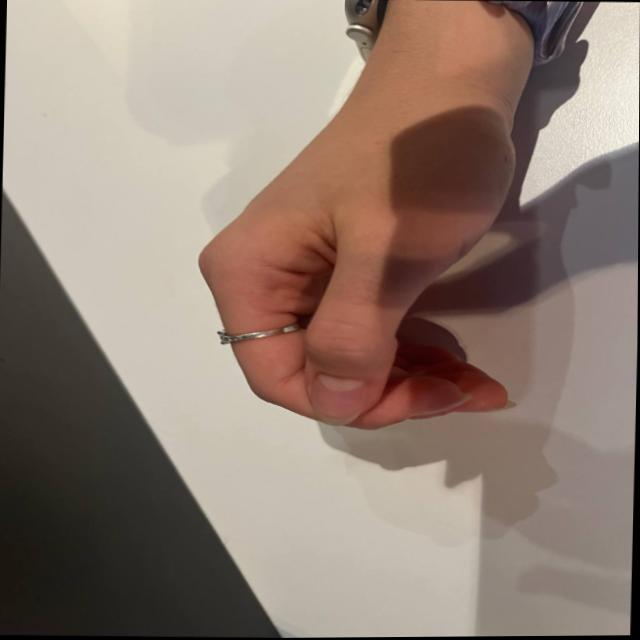f: (167, 76, 579, 435)
